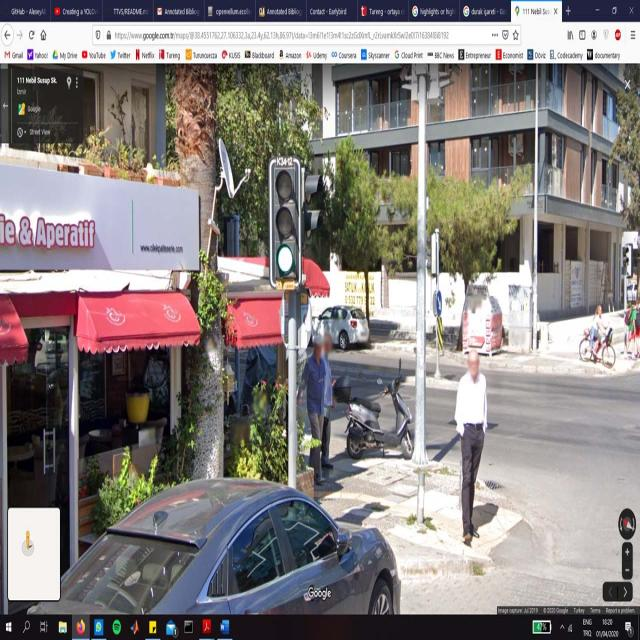yesil: (271, 161, 301, 286)
